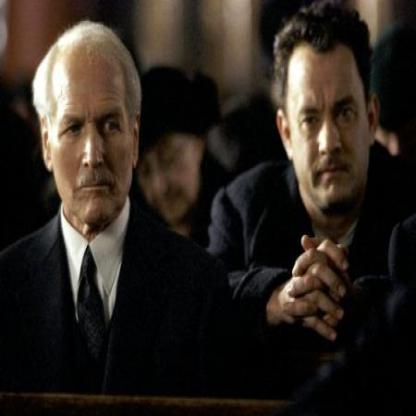face: (48, 26, 137, 223), (286, 14, 372, 211), (128, 89, 199, 227)
